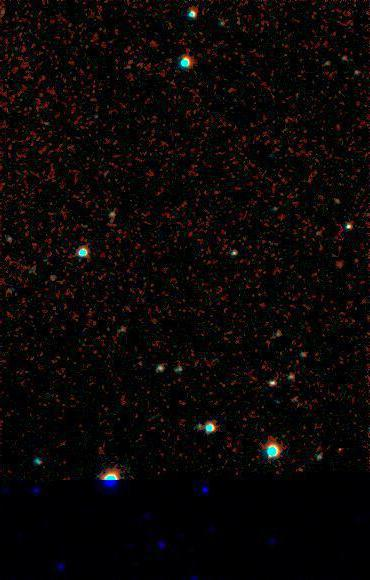star: (281, 457, 311, 487)
